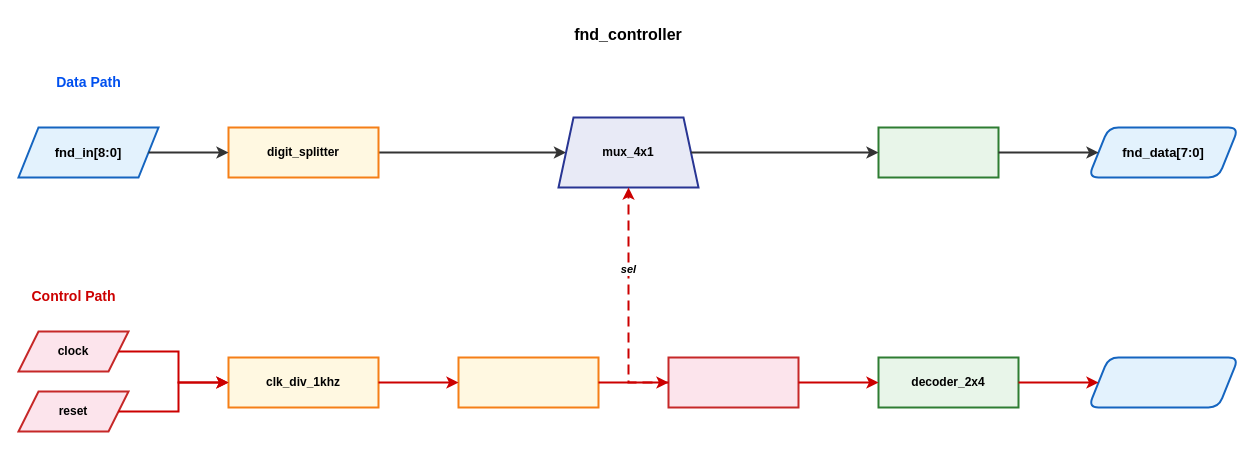
Image size: 1256x449. Some labels were removed from this diagram. Each missing label, with the centre of its shape:
bcd: pixel 938 152
counter_4: pixel 528 382
digit_sel[1:0]: pixel 733 382
fnd_com[3:0]: pixel 1163 382
